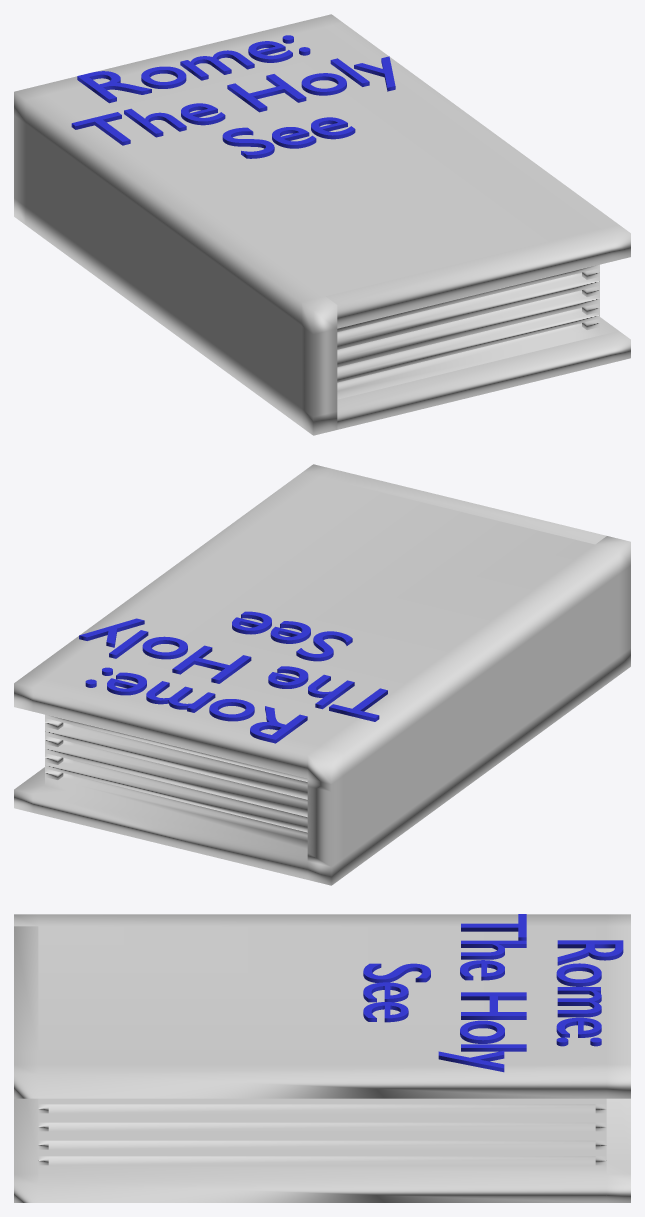
The model's file is BookPropRome.fbx.
The picture shows the model from 3 angles, top to bottom: view 1: azimuth 30°, elevation 25°; view 2: azimuth 150°, elevation 25°; view 3: azimuth 270°, elevation 25°; orthographic projection. The views are drawn at different scales.
Visible parts, largest first — view 1: Cube, Text; view 2: Cube, Text; view 3: Cube, Text.
Part boxes in pixels (<box>): Cube: <box>14,14,630,435</box>; Text: <box>71,35,395,158</box>; Cube: <box>14,464,630,885</box>; Text: <box>79,611,387,743</box>; Cube: <box>14,914,630,1202</box>; Text: <box>363,914,623,1072</box>.
Size of the model in its own units: 53.21 by 20.6 by 86.85.
